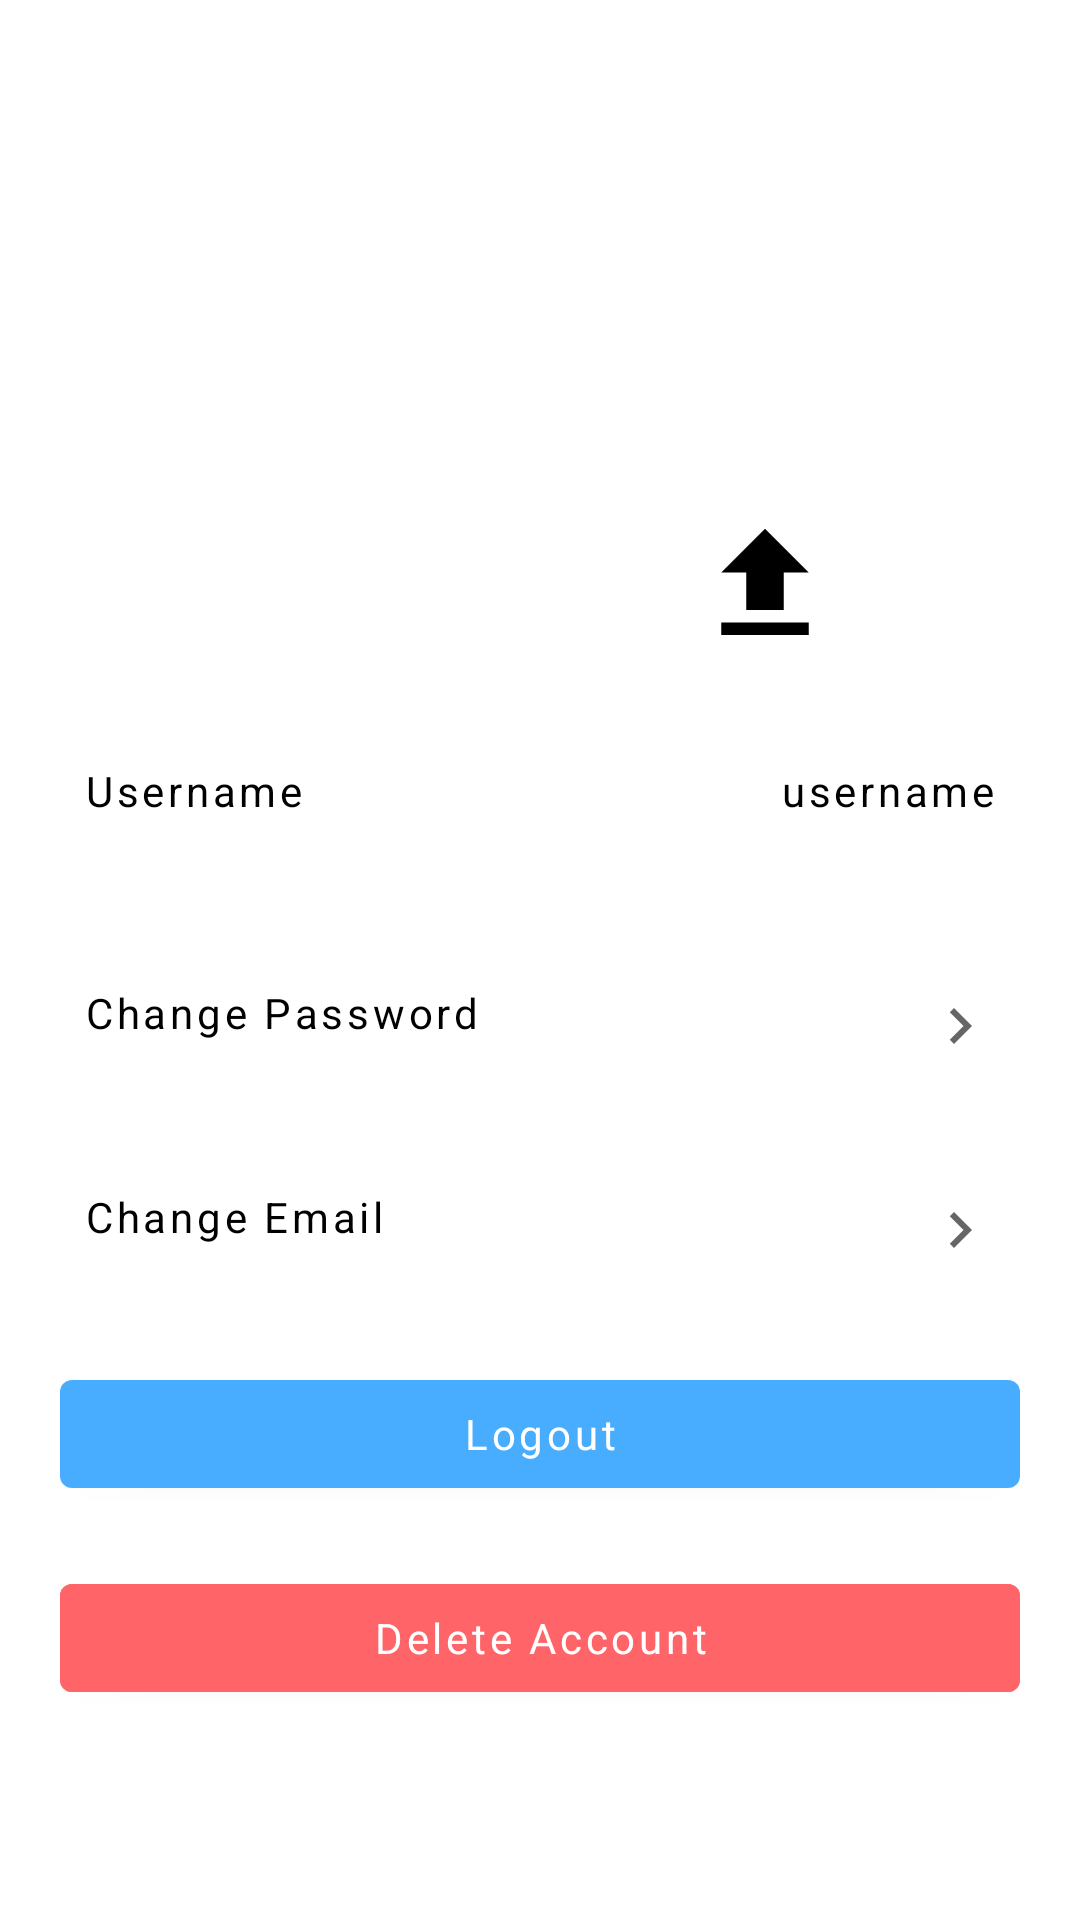

Screen size 1080x1920. Icon name, then its box in pixels as (x1, y1, x2, y2):
file upload: (721, 529, 809, 635)
